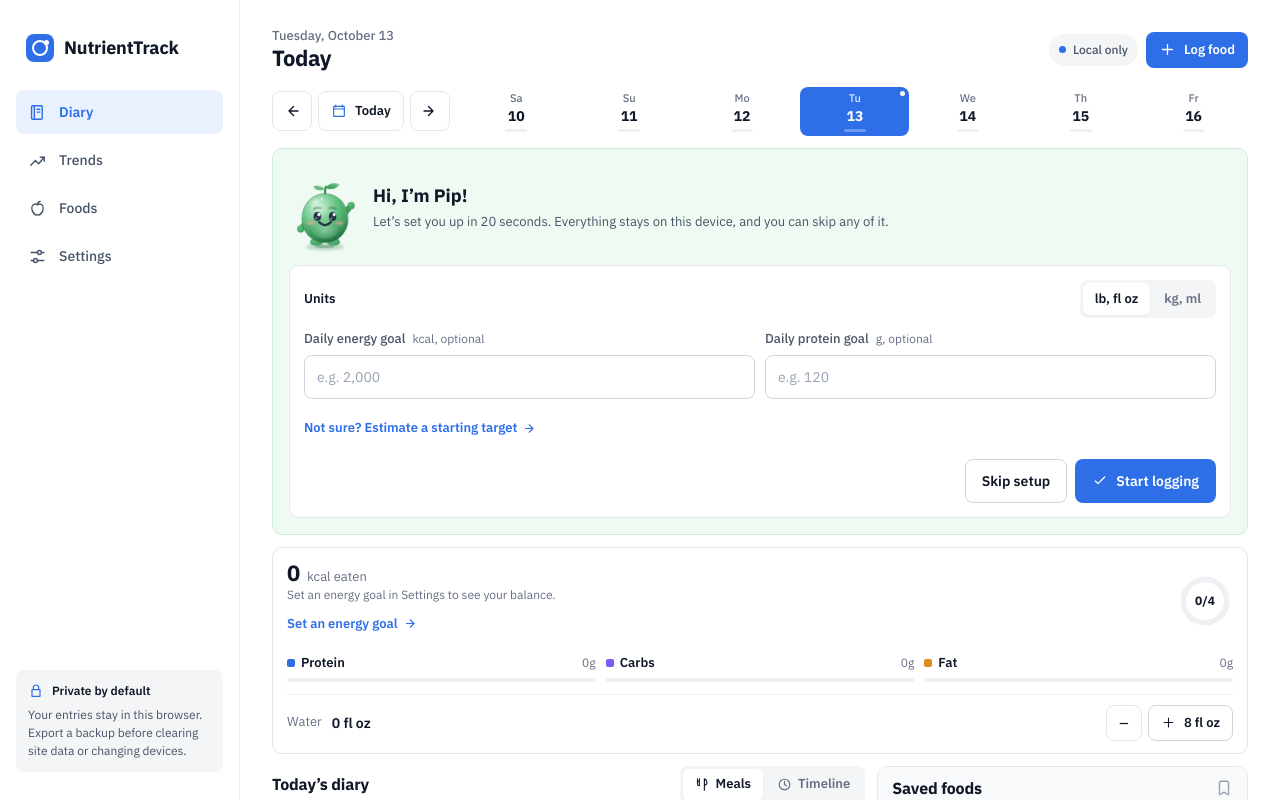
Test: favorites sort first › lists favorites before the rest in the Foods view, each group alphabetical
The width and height of the screenshot is (1280, 800).
Step 1. Click the button "Foods" → [120, 208], box [16,186,223,230]
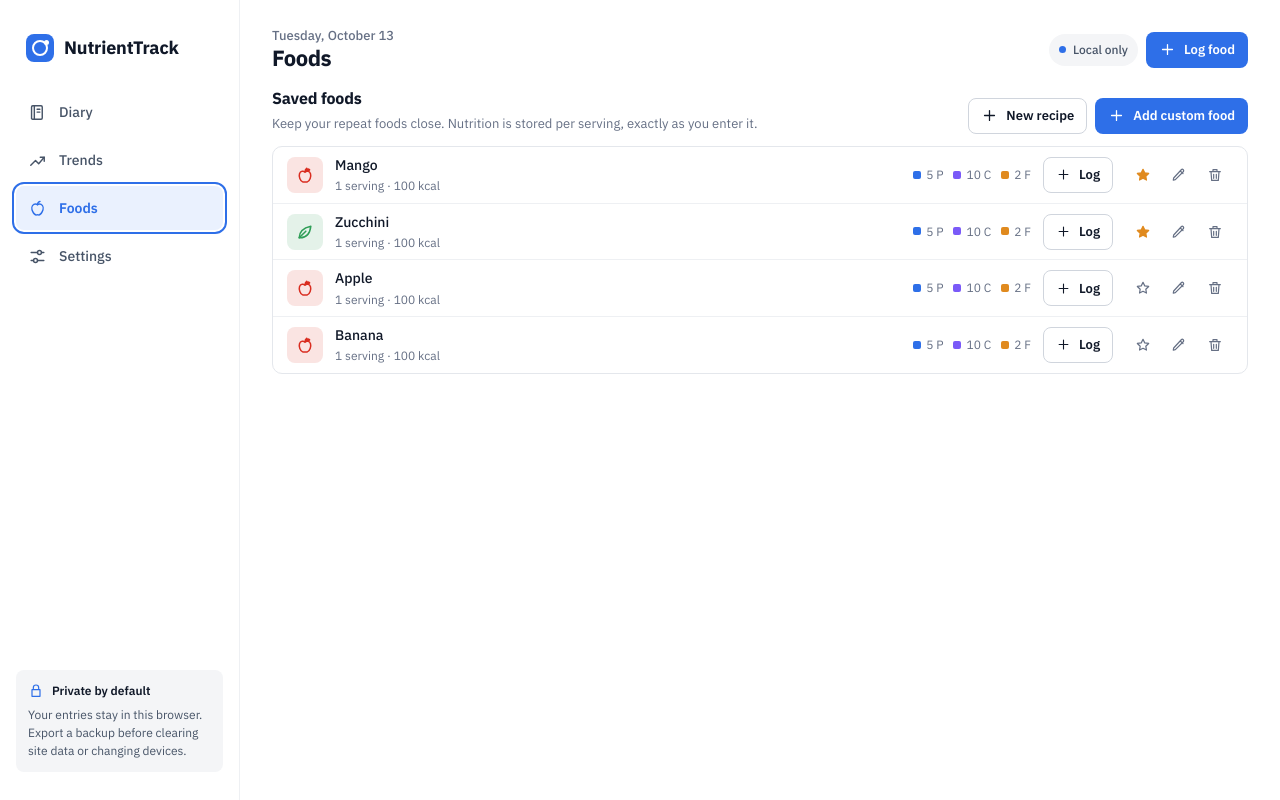
Check: the button named "Edit Apple" is shown, box [1161,270,1197,306]
